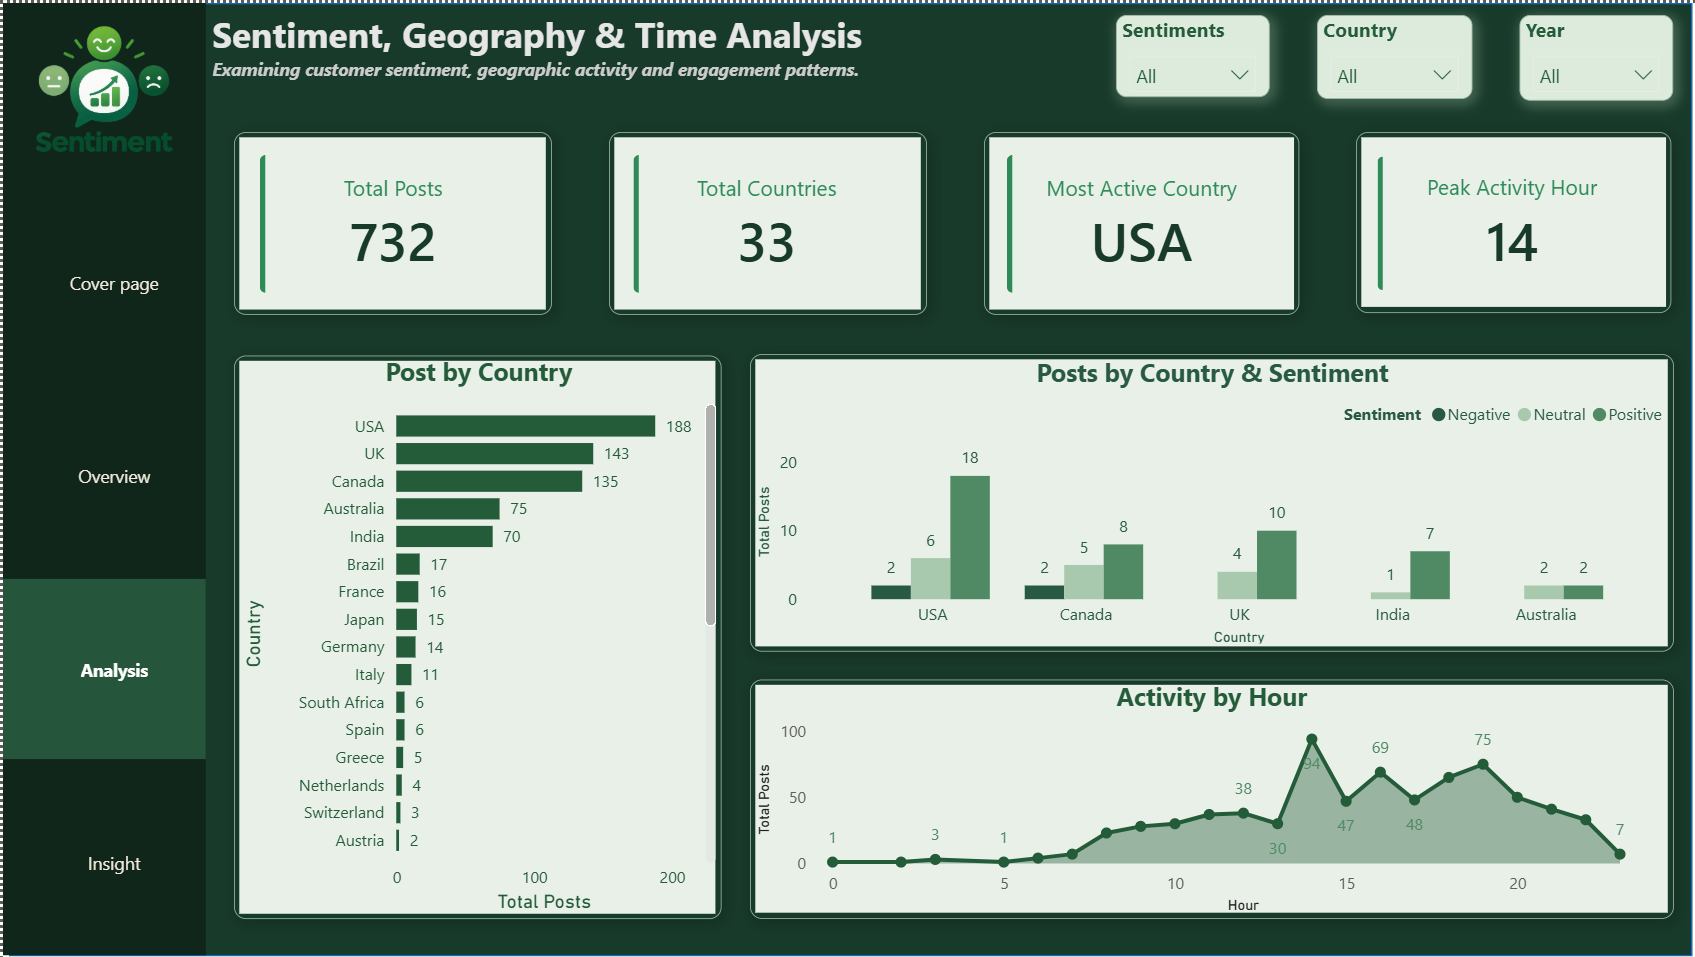

This screenshot's page, from the dashboard's own definition file:
{"tool":"powerbi","page":{"name":"Analysis","canvas":[1280,720],"ordinal":1},"visuals":[{"type":"shape","box":[4.6,0,1270.4,719.4],"z":0},{"type":"shape","box":[0,0,153.1,718.7],"z":1000},{"type":"shape","box":[174.3,266,367.9,425.7],"z":2000},{"type":"shape","box":[563.3,264.9,697.1,224.8],"z":3000},{"type":"shape","box":[563.3,511.1,697.1,180.6],"z":4000},{"type":"clusteredBarChart","title":"Post by Country","fields":{"Category":["3) Sentiment dataset.Country"],"Y":["3) Sentiment dataset.Total Posts"]},"box":[174.9,265.3,367.4,425.7],"z":5000},{"type":"lineChart","title":"Activity by Hour","fields":{"Y":["3) Sentiment dataset.Total Posts"],"Category":["3) Sentiment dataset.Hour","3) Sentiment dataset.Day"]},"box":[563.3,511.1,697.1,180.6],"z":6000},{"type":"shape","box":[174.5,97.1,239.8,138.1],"z":7000},{"type":"shape","box":[740.2,97.1,238.3,138.1],"z":8000},{"type":"shape","box":[1021.5,97.1,238.3,136.6],"z":9000},{"type":"shape","box":[457.4,97.1,239.8,138.1],"z":10000},{"type":"cardVisual","fields":{"Data":["3) Sentiment dataset.Total Posts"]},"box":[176.1,97.1,236.8,138.1],"z":11000},{"type":"cardVisual","fields":{"Data":["3) Sentiment dataset.Total Countries"]},"box":[458.4,97.1,236.8,138.1],"z":12000},{"type":"cardVisual","fields":{"Data":["3) Sentiment dataset.Top Engaging Country"]},"box":[740.7,97.1,238.3,138.1],"z":13000},{"type":"cardVisual","fields":{"Data":["3) Sentiment dataset.Peak Activity Hour"]},"box":[1020,98.7,238.3,135.1],"z":14000},{"type":"textbox","box":[152.9,0,667.8,89.3],"z":15000},{"type":"clusteredColumnChart","title":"Posts by Country & Sentiment","fields":{"Category":["3) Sentiment dataset.Country"],"Y":["3) Sentiment dataset.Total Posts"],"Series":["3) Sentiment dataset.Sentiment"]},"box":[563.3,266.5,698,222.6],"z":16000},{"type":"slicer","title":"Sentiments","fields":{"Values":["3) Sentiment dataset.Sentiment"]},"box":[840.3,9,116.2,62],"z":17000},{"type":"slicer","title":"Country","fields":{"Values":["3) Sentiment dataset.Country"]},"box":[992,9,117.5,63.3],"z":18000},{"type":"slicer","title":"Year","fields":{"Values":["3) Sentiment dataset.Year"]},"box":[1145,9,116.2,64.6],"z":19000},{"type":"pageNavigator","box":[0,142.9,153.1,577.3],"z":20000},{"type":"image","box":[0,1.5,153.1,129.7],"z":21000}]}

Visuals, with their boxes in screenshot pixels (x1, y1, x2, y2):
shape: pyautogui.locateOnScreen(6, 9, 1665, 948)
shape: pyautogui.locateOnScreen(0, 9, 200, 947)
shape: pyautogui.locateOnScreen(228, 356, 708, 912)
shape: pyautogui.locateOnScreen(736, 355, 1646, 648)
shape: pyautogui.locateOnScreen(736, 676, 1646, 912)
"Post by Country" clusteredBarChart: pyautogui.locateOnScreen(228, 355, 708, 911)
"Activity by Hour" lineChart: pyautogui.locateOnScreen(736, 676, 1646, 912)
shape: pyautogui.locateOnScreen(228, 136, 541, 316)
shape: pyautogui.locateOnScreen(967, 136, 1278, 316)
shape: pyautogui.locateOnScreen(1334, 136, 1645, 314)
shape: pyautogui.locateOnScreen(597, 136, 910, 316)
cardVisual - 3) Sentiment dataset.Total Posts: pyautogui.locateOnScreen(230, 136, 539, 316)
cardVisual - 3) Sentiment dataset.Total Countries: pyautogui.locateOnScreen(599, 136, 908, 316)
cardVisual - 3) Sentiment dataset.Top Engaging Country: pyautogui.locateOnScreen(967, 136, 1278, 316)
cardVisual - 3) Sentiment dataset.Peak Activity Hour: pyautogui.locateOnScreen(1332, 138, 1643, 314)
textbox: pyautogui.locateOnScreen(200, 9, 1072, 125)
"Posts by Country & Sentiment" clusteredColumnChart: pyautogui.locateOnScreen(736, 357, 1647, 648)
"Sentiments" slicer: pyautogui.locateOnScreen(1097, 21, 1249, 102)
"Country" slicer: pyautogui.locateOnScreen(1295, 21, 1449, 103)
"Year" slicer: pyautogui.locateOnScreen(1495, 21, 1647, 105)
pageNavigator: pyautogui.locateOnScreen(0, 195, 200, 949)
image: pyautogui.locateOnScreen(0, 11, 200, 180)
